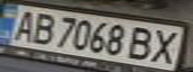0: (69, 17, 93, 52)
6: (87, 20, 112, 55)
7: (48, 15, 78, 48)
8: (103, 21, 130, 57)
A: (3, 8, 42, 42)
B: (124, 25, 160, 62), (24, 10, 60, 45)
X: (145, 27, 187, 65)
